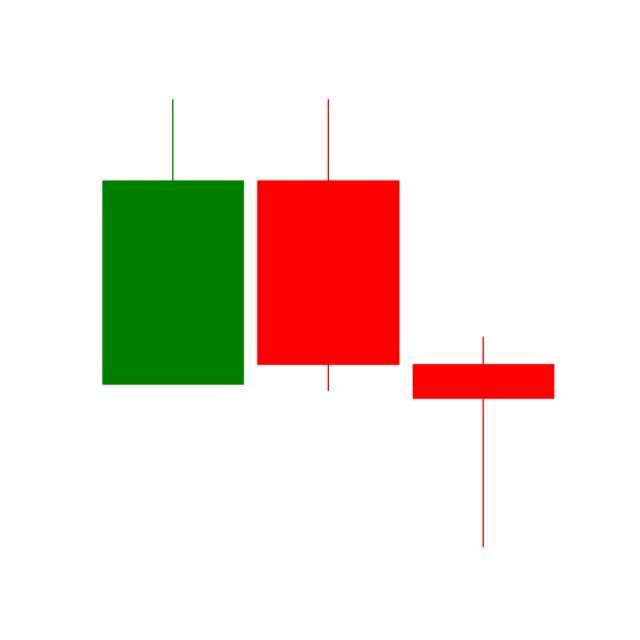Hammer: (406, 335, 562, 550)
